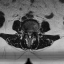CCS_normal: (29, 31, 30, 39)
LFS_severe_stenosis: (33, 30, 34, 34)
LLS_severe_stenosis: (31, 31, 33, 36)
RFS_severe_stenosis: (25, 29, 27, 34)
RLS_severe_stenosis: (27, 31, 28, 37)
